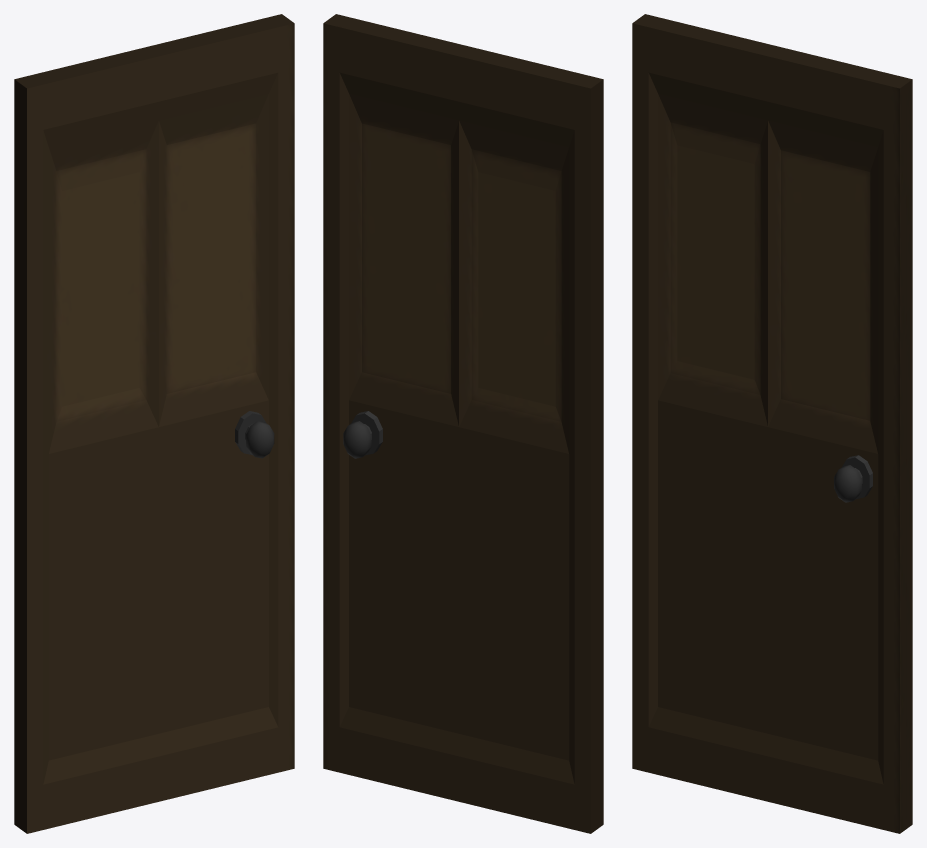
File: Door.fbx
The picture shows the model from 3 angles, left to right: view 1: azimuth 30°, elevation 25°; view 2: azimuth 150°, elevation 25°; view 3: azimuth 330°, elevation 25°; orthographic projection.
Parts seen in each view (by area): view 1: Door, Pomo_004; view 2: Door, Pomo_005; view 3: Door, Pomo_004.
Boxes of the visible parts, bbox=[...] form: Door: bbox=[14, 14, 294, 833]; Pomo_004: bbox=[235, 411, 274, 458]; Door: bbox=[323, 14, 603, 833]; Pomo_005: bbox=[343, 411, 382, 458]; Door: bbox=[632, 14, 912, 833]; Pomo_004: bbox=[834, 455, 872, 502].
Bounding box in the file's own units: 29.92 × 79.65 × 8.77.
